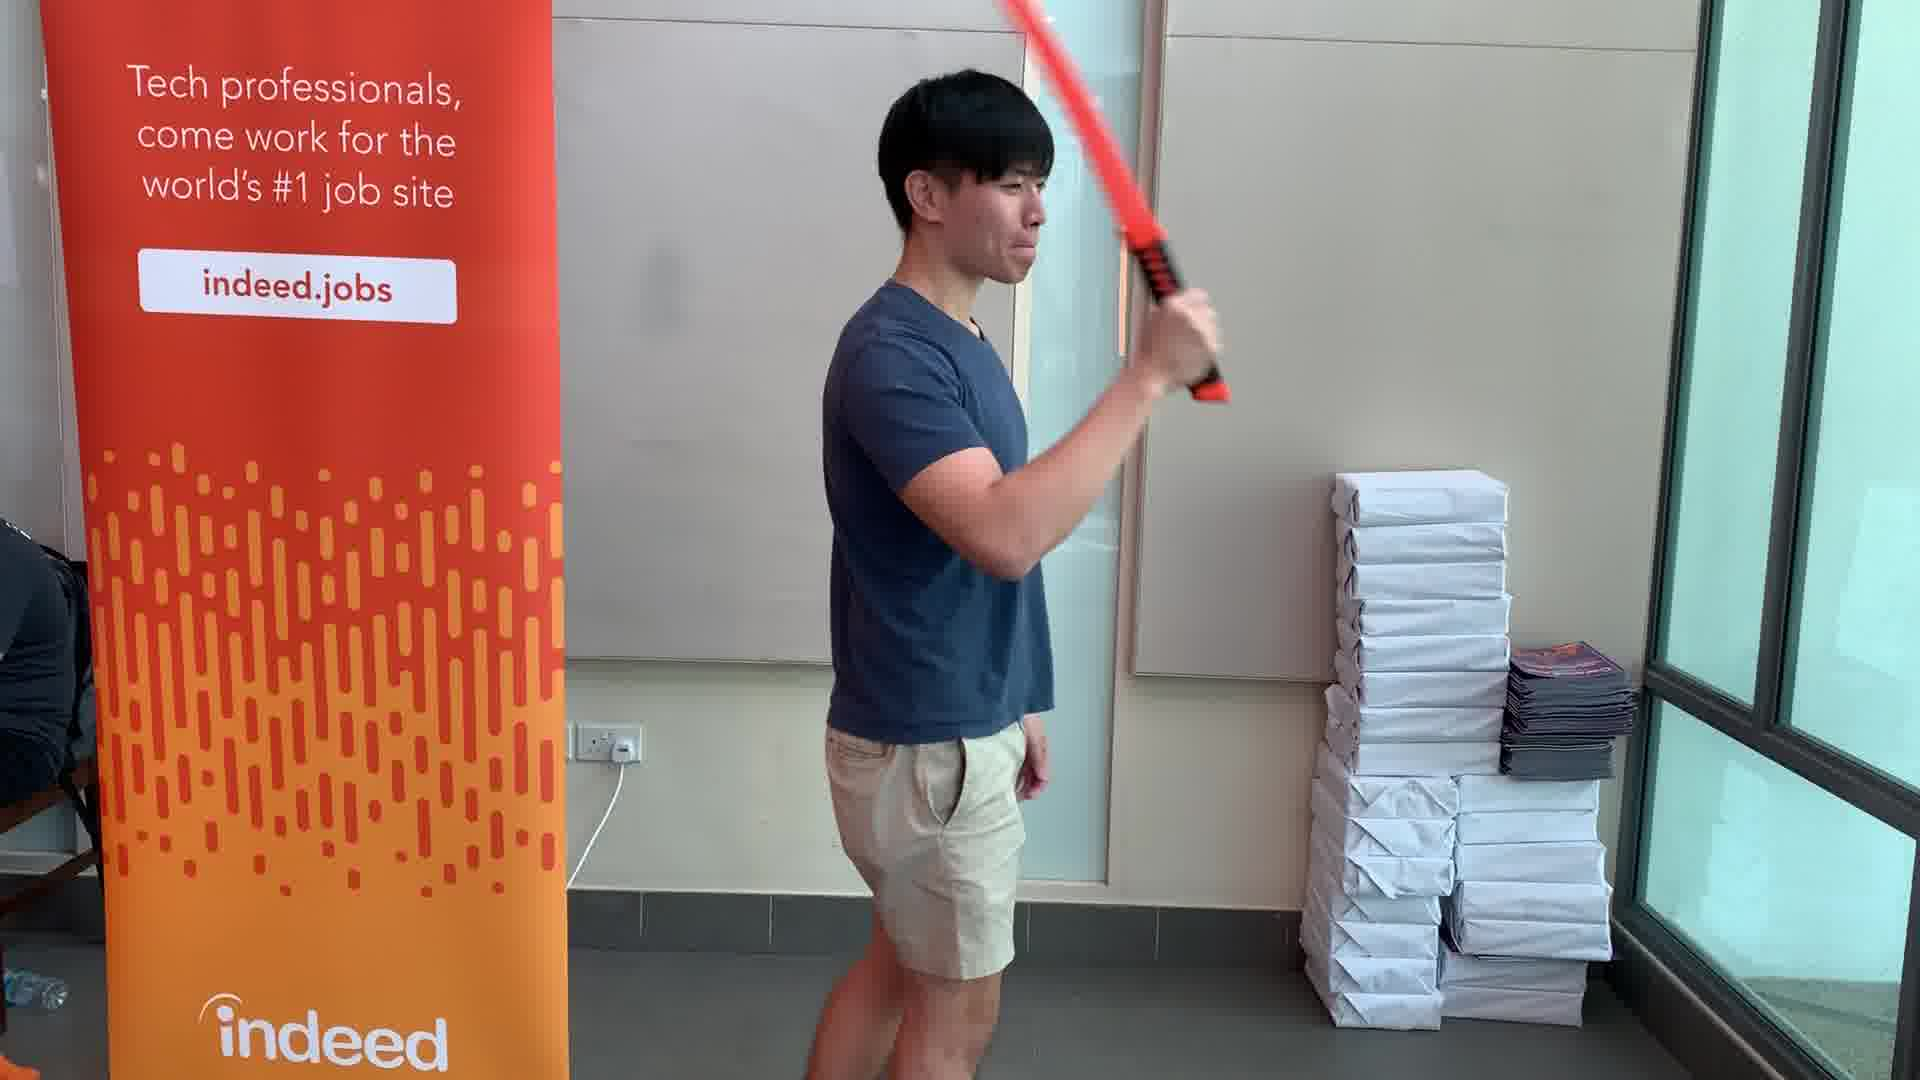knife: (993, 1, 1244, 418)
